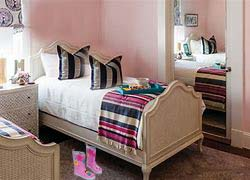copymove: (87, 54, 127, 90)
removal: (33, 3, 78, 37)
spliced: (71, 146, 104, 180)
